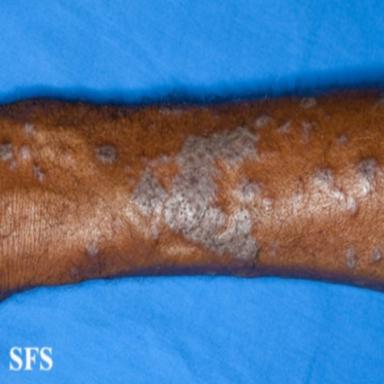lichen: (121, 125, 260, 261), (309, 167, 345, 200), (351, 158, 377, 196), (233, 172, 261, 203), (0, 140, 18, 170), (85, 241, 101, 273), (95, 145, 116, 164), (301, 121, 316, 144), (341, 196, 358, 214), (345, 248, 356, 270), (159, 107, 187, 115), (254, 115, 271, 128), (300, 98, 317, 109), (33, 165, 44, 182), (20, 145, 31, 161), (262, 197, 274, 211), (277, 121, 291, 133), (23, 123, 35, 135), (372, 247, 382, 261), (337, 134, 349, 145), (71, 267, 78, 279)
